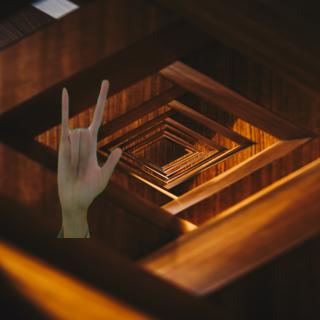ILY: (54, 77, 125, 215)
